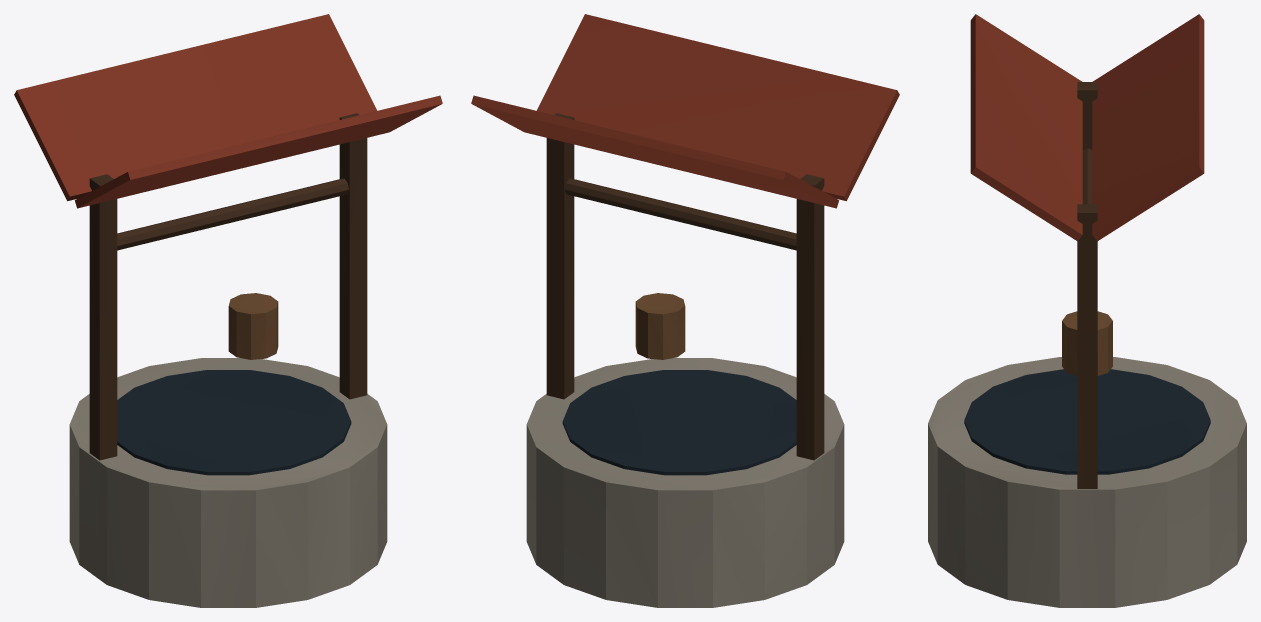
Rendered from well.glb.
The picture shows the model from 3 angles, left to right: view 1: azimuth 30°, elevation 25°; view 2: azimuth 150°, elevation 25°; view 3: azimuth 270°, elevation 25°; orthographic projection.
Visible parts, largest first — view 1: well; view 2: well; view 3: well.
Part boxes in pixels (x1,y1,x2,y2): well: (14, 14, 442, 607); well: (471, 14, 899, 607); well: (928, 14, 1246, 607).
Bounding box in the file's own units: 2.5 × 3.43 × 2.2.
